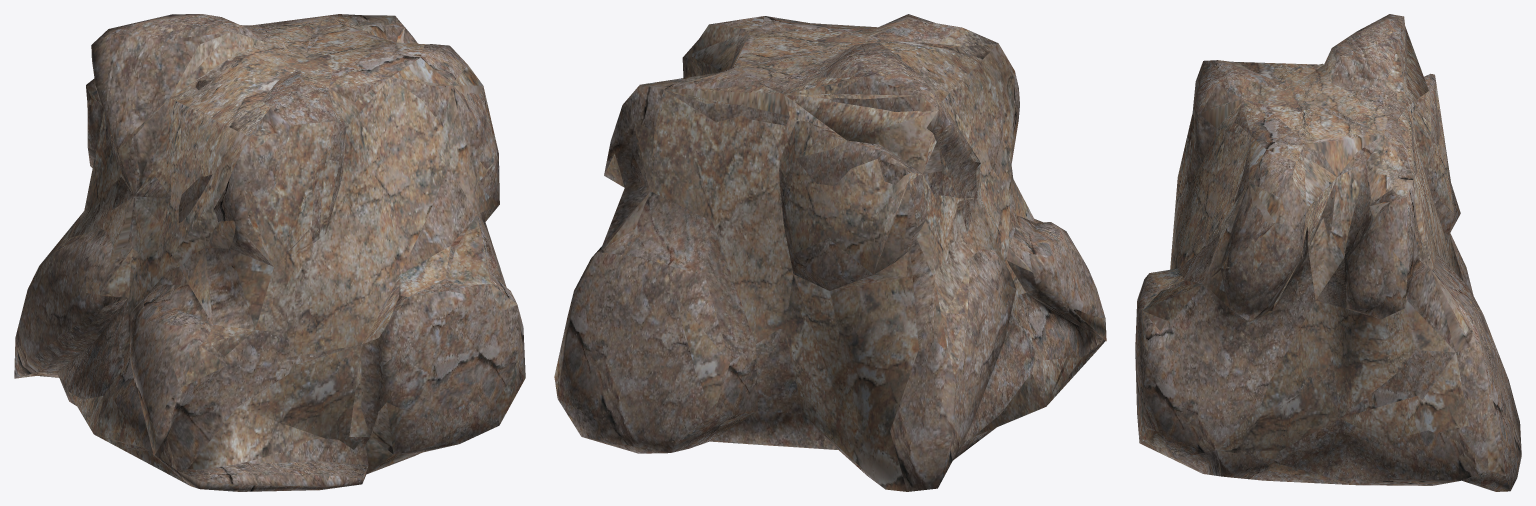
File: africaRock_04.DAE
3 renders of one model, left to right at view 1: azimuth 30°, elevation 25°; view 2: azimuth 150°, elevation 25°; view 3: azimuth 270°, elevation 25°, orthographic. The views are drawn at different scales.
Parts seen in each view (by area): view 1: africaRockFour300, africaRockFour100, africaRockFour200; view 2: africaRockFour300, africaRockFour100, africaRockFour200; view 3: africaRockFour300, africaRockFour100, africaRockFour200.
Boxes of the visible parts, left/top/right/bottom form: africaRockFour300: left=14, top=14, right=525, bottom=491; africaRockFour100: left=65, top=15, right=524, bottom=485; africaRockFour200: left=15, top=18, right=521, bottom=477; africaRockFour300: left=555, top=14, right=1105, bottom=491; africaRockFour100: left=604, top=24, right=1096, bottom=437; africaRockFour200: left=554, top=16, right=1106, bottom=491; africaRockFour300: left=1135, top=14, right=1521, bottom=491; africaRockFour100: left=1140, top=18, right=1458, bottom=484; africaRockFour200: left=1139, top=17, right=1506, bottom=475.
Size of what is drawn, in the model's own units: 363 by 330 by 343.
